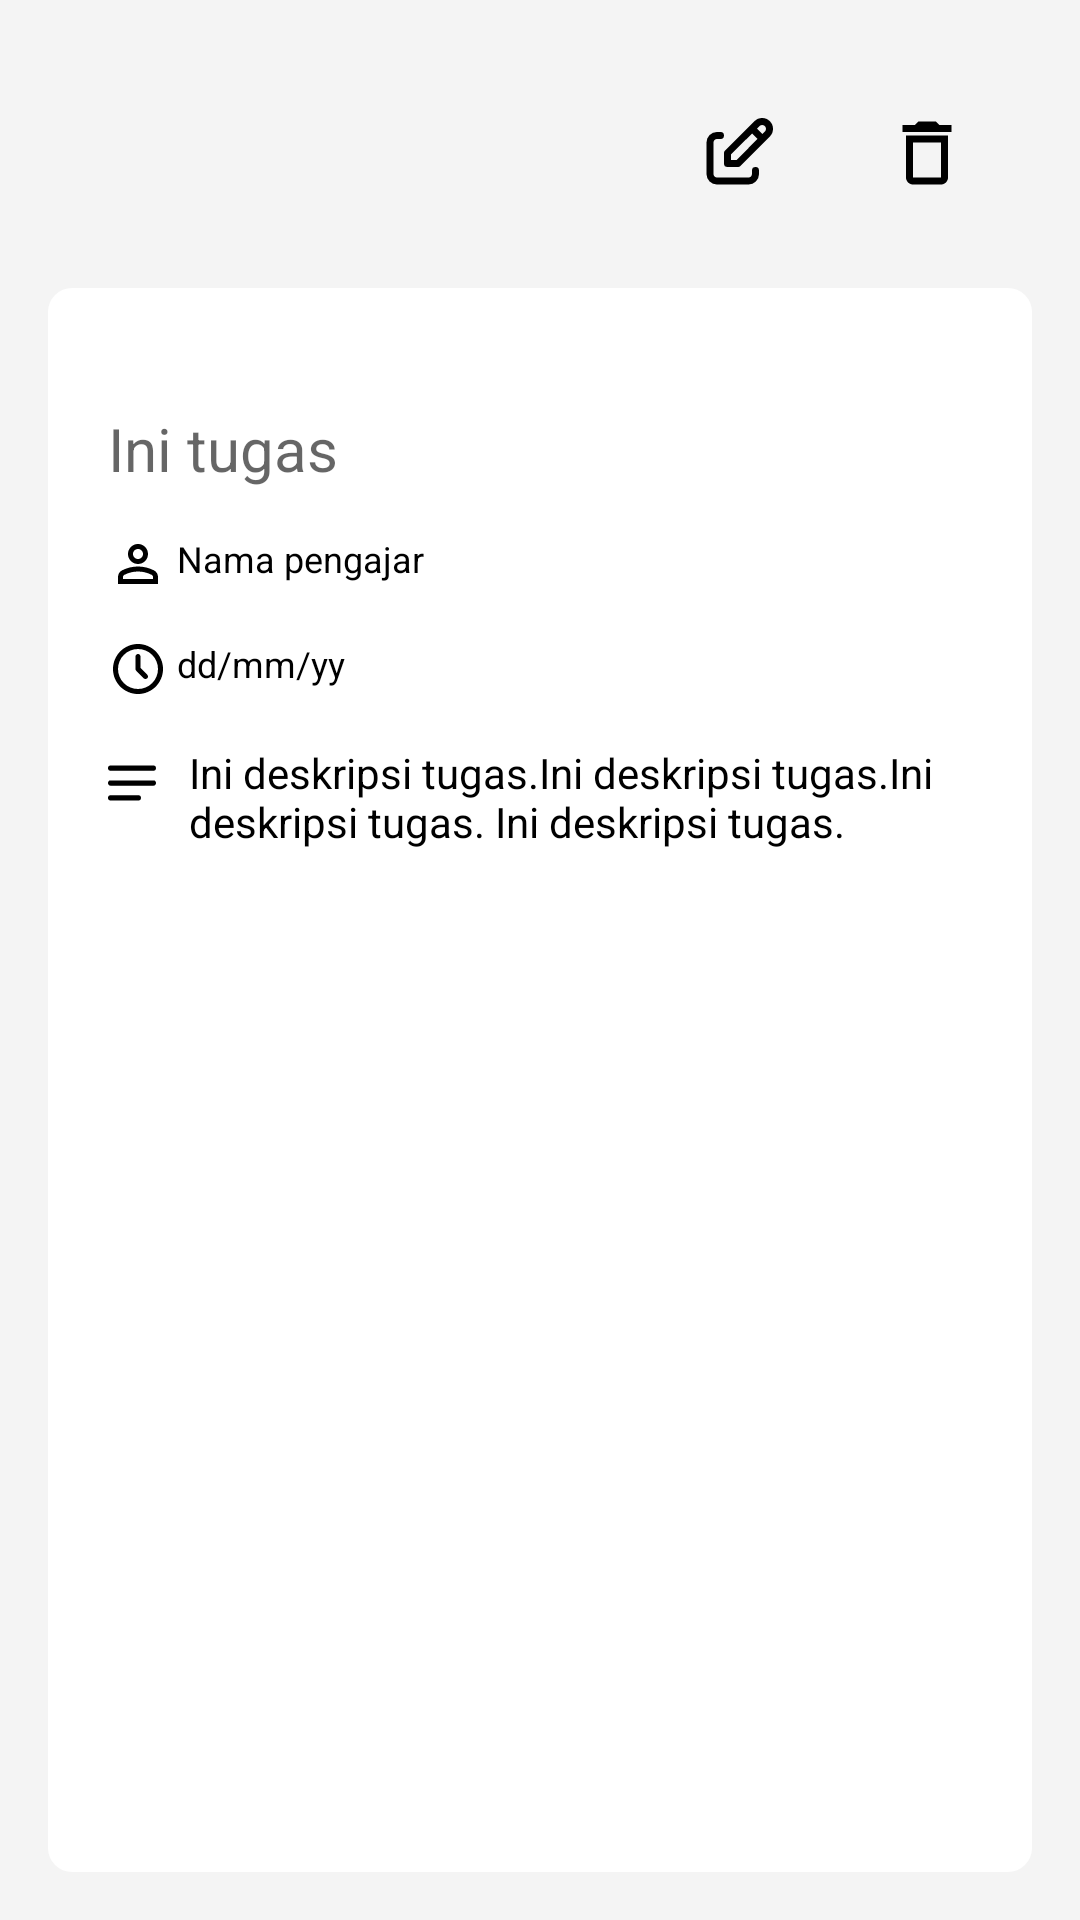

Icons on this 1080*1920 Android screen, each with the point to tap as [x,y]:
delete: [927,153]
desc: [132,783]
edit: [739,151]
person: [138,564]
time: [138,669]
